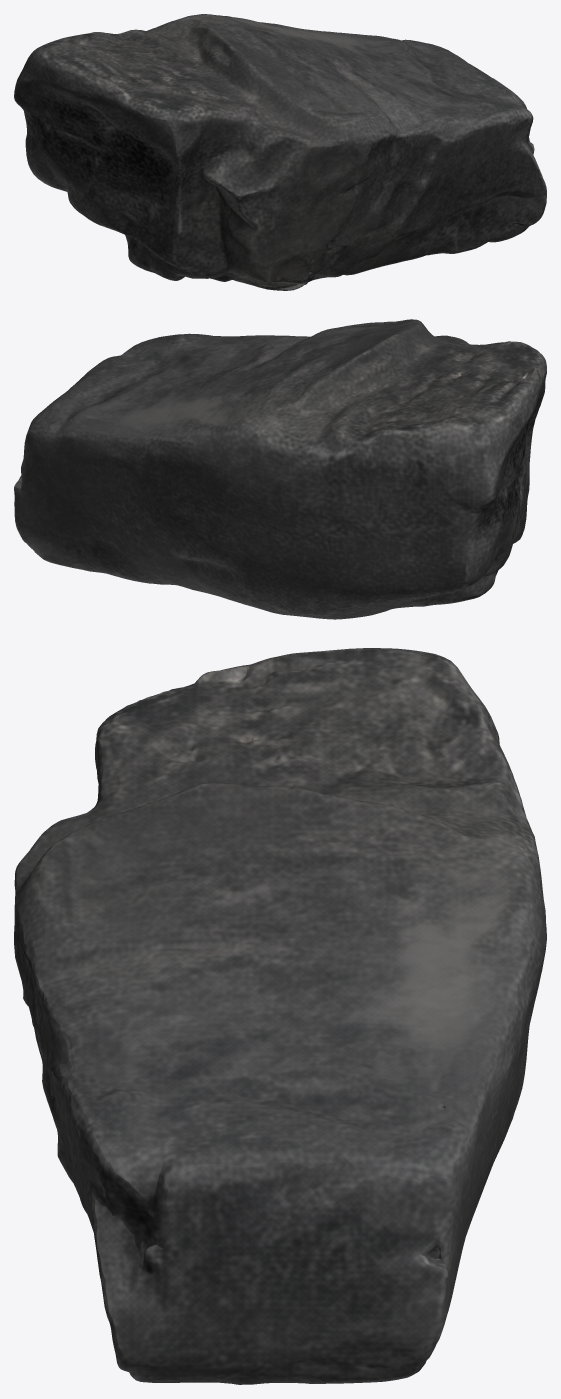
The model's file is tex_mesh.glb.
The picture shows the model from 3 angles, top to bottom: view 1: azimuth 30°, elevation 25°; view 2: azimuth 150°, elevation 25°; view 3: azimuth 270°, elevation 25°; orthographic projection. The views are drawn at different scales.
Visible parts, largest first — view 1: world; view 2: world; view 3: world.
Part boxes in pixels (x1=…): world: x1=14, y1=14, x2=546, y2=290; world: x1=14, y1=319, x2=546, y2=619; world: x1=14, y1=648, x2=546, y2=1384.
Bounding box in the file's own units: 3.5 × 1.75 × 2.12.
Materials: 1 (1 with a texture image).
